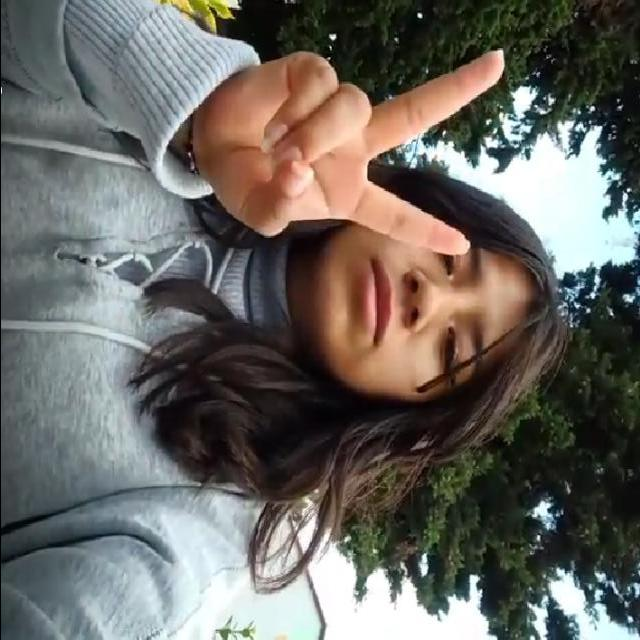V: (204, 34, 521, 264)
